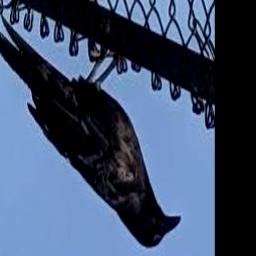Crow: (0, 14, 182, 249)
